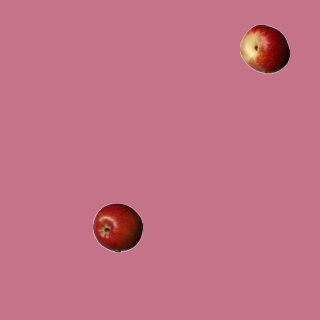Apple Braeburn: (92, 202, 142, 252)
Nectarine: (239, 23, 289, 73)
